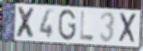3: (99, 11, 117, 44)
4: (39, 9, 55, 40)
G: (58, 9, 77, 42)
L: (79, 10, 95, 42)
X: (15, 6, 37, 40), (118, 12, 138, 46)
